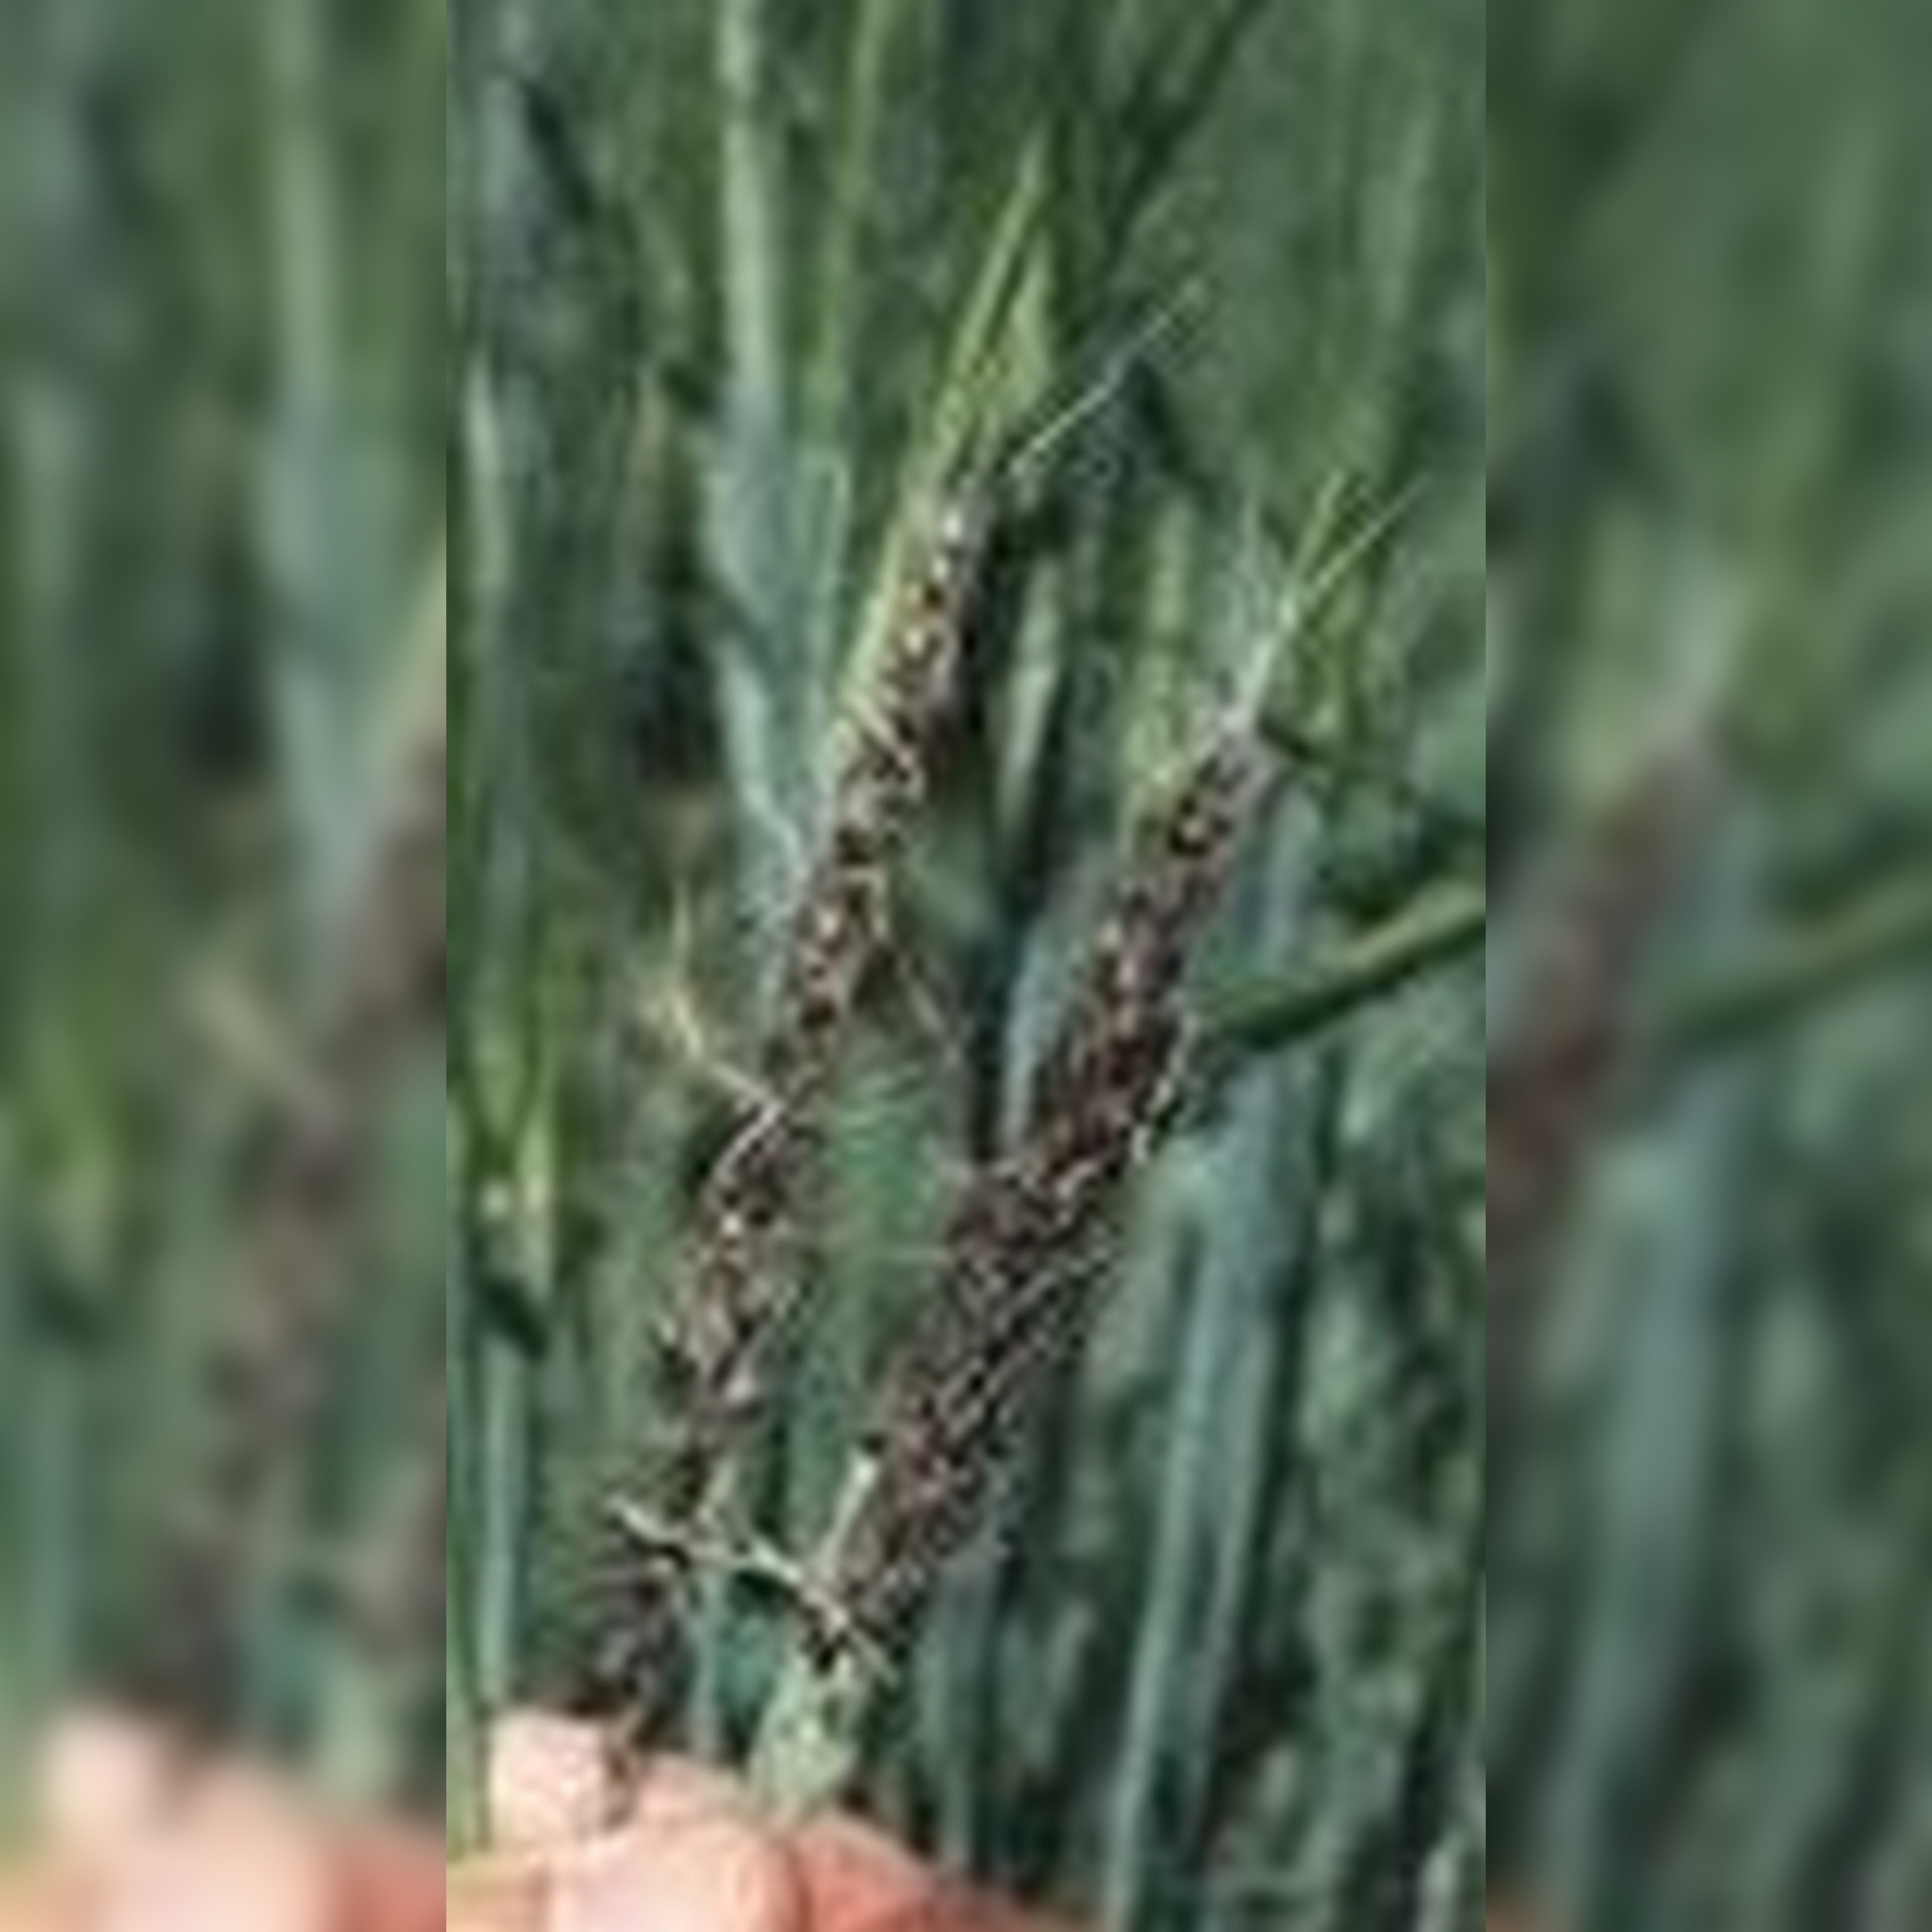Wheat Loose Smut: (676, 616, 1300, 1667)
